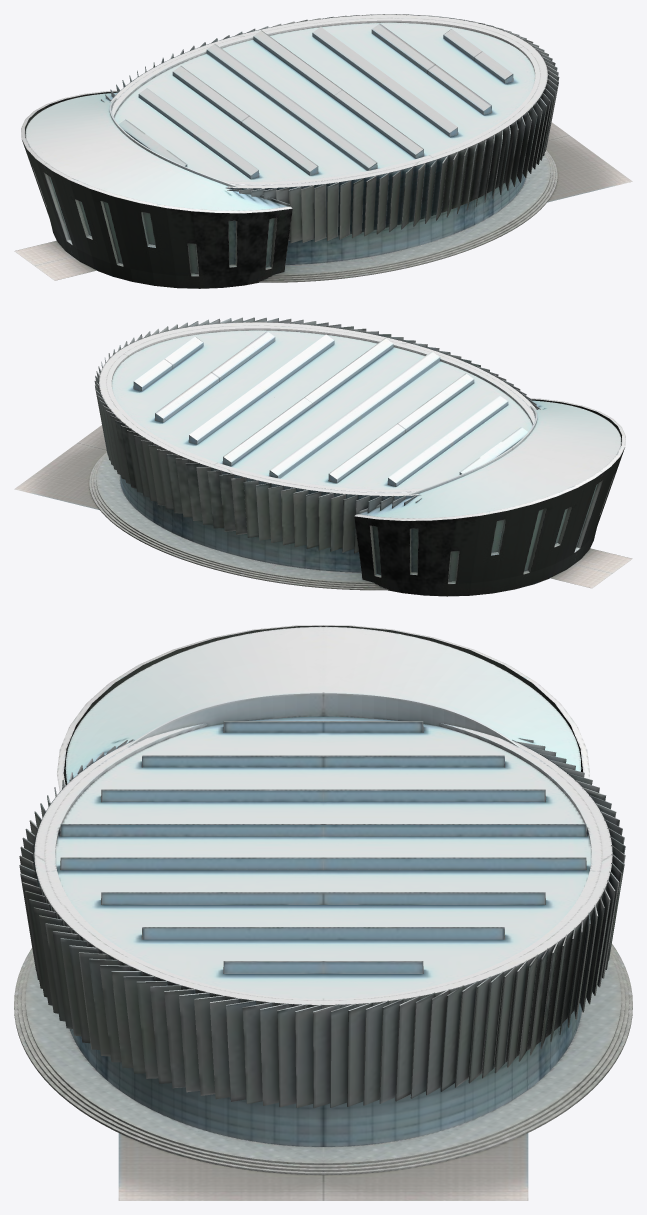
File: stadiumTexture.glb
The picture shows the model from 3 angles, top to bottom: view 1: azimuth 30°, elevation 25°; view 2: azimuth 150°, elevation 25°; view 3: azimuth 270°, elevation 25°; orthographic projection. The views are drawn at different scales.
Visible parts, largest first — view 1: 体育馆; view 2: 体育馆; view 3: 体育馆.
Part boxes in pixels (<box>): 体育馆: <box>14,14,632,288</box>; 体育馆: <box>14,317,632,596</box>; 体育馆: <box>14,625,632,1200</box>.
Size of the model in its own units: 77.98 by 14.77 by 48.21.
Materials: 1 (1 with a texture image).
